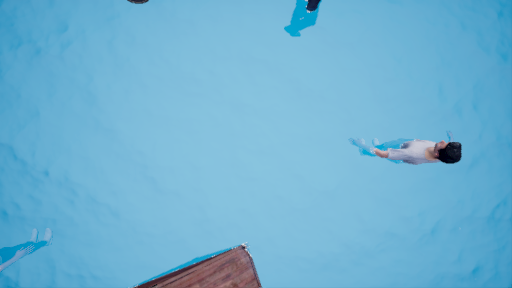person: (355, 127, 481, 179)
